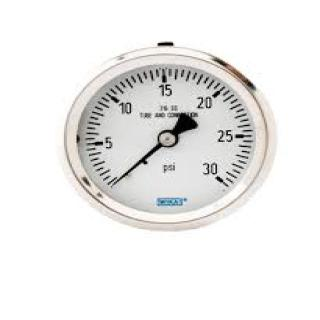gauge: (52, 37, 284, 238), (200, 161, 232, 193), (105, 171, 129, 193), (156, 128, 178, 148), (109, 178, 121, 190)
